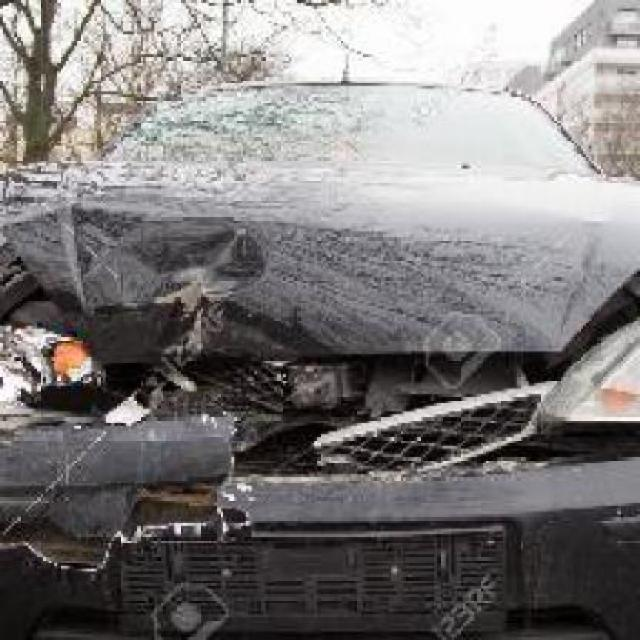damaged-front-bumper: (2, 422, 638, 638)
damaged-hood: (2, 180, 638, 360)
